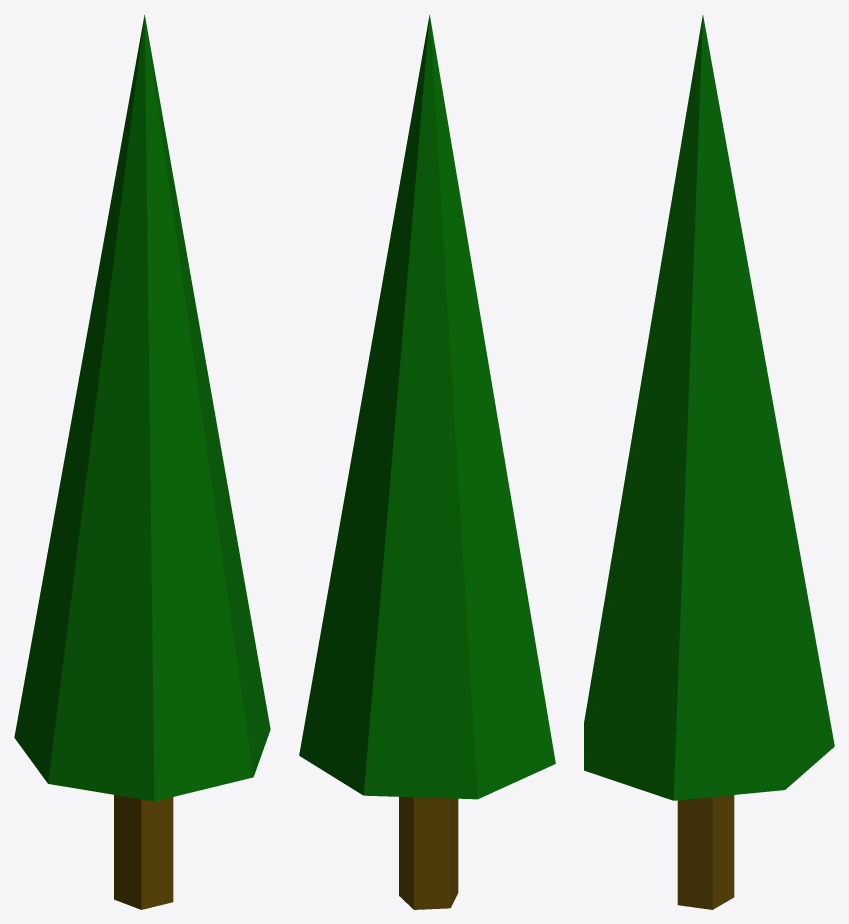
File: tree.obj
3 renders of one model, left to right at view 1: azimuth 30°, elevation 25°; view 2: azimuth 150°, elevation 25°; view 3: azimuth 270°, elevation 25°, orthographic.
Visible parts, largest first — view 1: obj.tree.000_Cone.001; view 2: obj.tree.000_Cone.001; view 3: obj.tree.000_Cone.001.
Boxes of the visible parts, <box> form: obj.tree.000_Cone.001: <box>14,15,270,909</box>; obj.tree.000_Cone.001: <box>299,15,555,909</box>; obj.tree.000_Cone.001: <box>584,15,834,909</box>.
Bounding box in the file's own units: 1.28 × 4.86 × 1.25.
